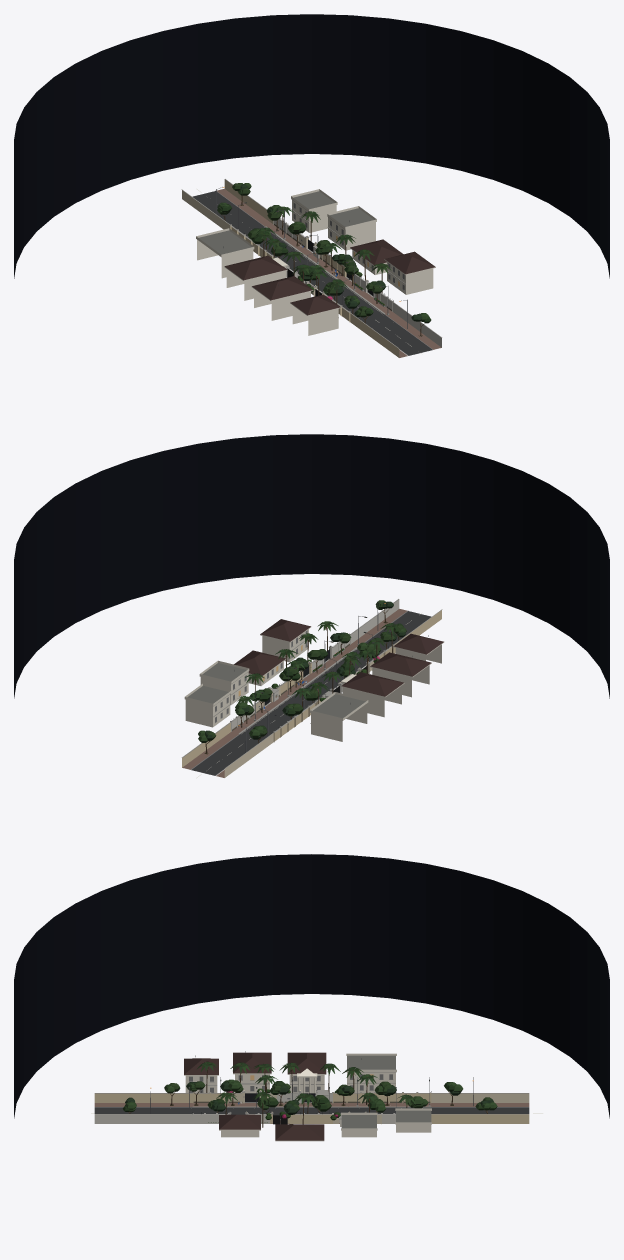
The model's file is maitama.glb.
3 renders of one model, top to bottom at view 1: azimuth 30°, elevation 25°; view 2: azimuth 150°, elevation 25°; view 3: azimuth 270°, elevation 25°, orthographic.
Visible parts, largest first — view 1: Pano, Env; view 2: Pano, Env; view 3: Pano, Env.
Part boxes in pixels (bbox=[...]): Pano: bbox=[14, 14, 609, 278]; Env: bbox=[181, 179, 442, 357]; Pano: bbox=[14, 434, 609, 698]; Env: bbox=[181, 599, 444, 778]; Pano: bbox=[14, 854, 609, 1118]; Env: bbox=[91, 1051, 542, 1141].
Bounding box in the file's own units: 170 × 44 × 170.
